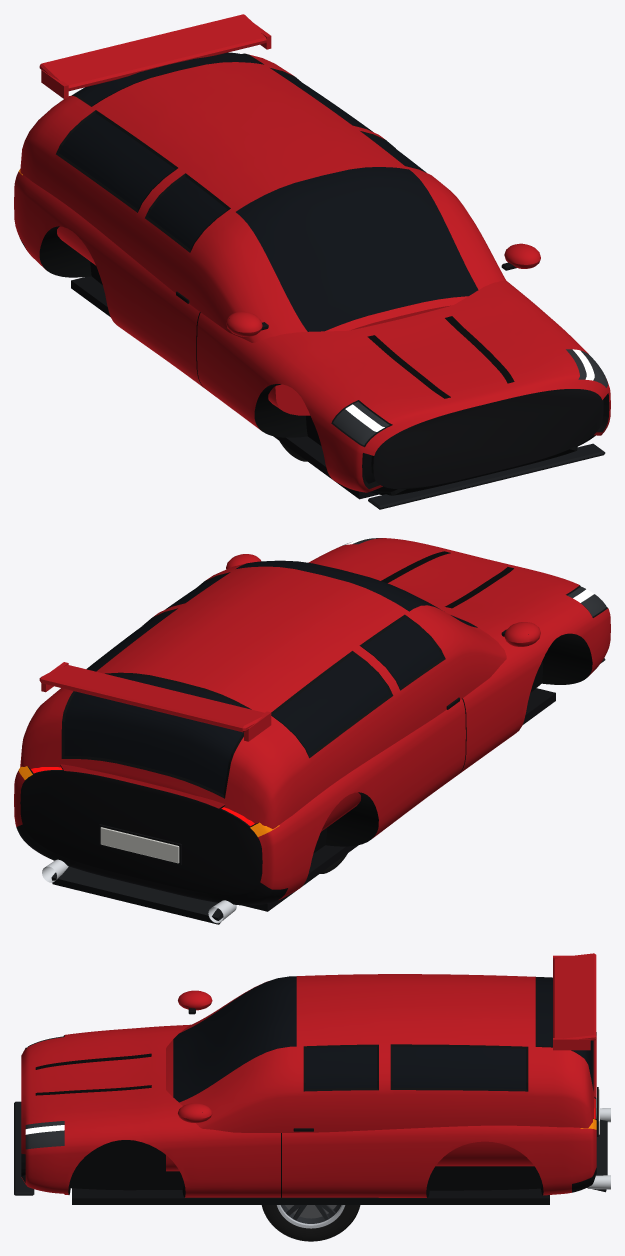
File: hothatch.glb
3 renders of one model, top to bottom at view 1: azimuth 30°, elevation 25°; view 2: azimuth 150°, elevation 25°; view 3: azimuth 270°, elevation 25°, orthographic. The views are drawn at different scales.
Visible parts, largest first — view 1: shell_lod0, wing, splitter, details, mirrorL, mirrorR; view 2: shell_lod0, details, wing, plate, mirrorR; view 3: shell_lod0, details, wing, wheel_lod0, splitter, mirrorR, mirrorL.
Boxes of the visible parts, x1,y1,x2,y2 form: shell_lod0: (14,52,610,495); wing: (39,14,271,98); splitter: (368,443,605,509); details: (71,276,378,499); mirrorL: (501,243,540,270); mirrorR: (226,311,268,336); shell_lod0: (14,538,610,905); details: (42,688,555,924); wing: (39,662,271,741); plate: (99,824,181,865); mirrorR: (501,622,540,646); shell_lod0: (21,974,596,1197); details: (72,1108,610,1204); wing: (553,953,596,1050); wheel_lod0: (261,1205,360,1241); splitter: (14,1101,34,1195); mirrorR: (178,990,212,1014); mirrorL: (178,1103,212,1122).
Size of what is drawn, in the model's own units: 2.04 by 1.83 by 4.12.
